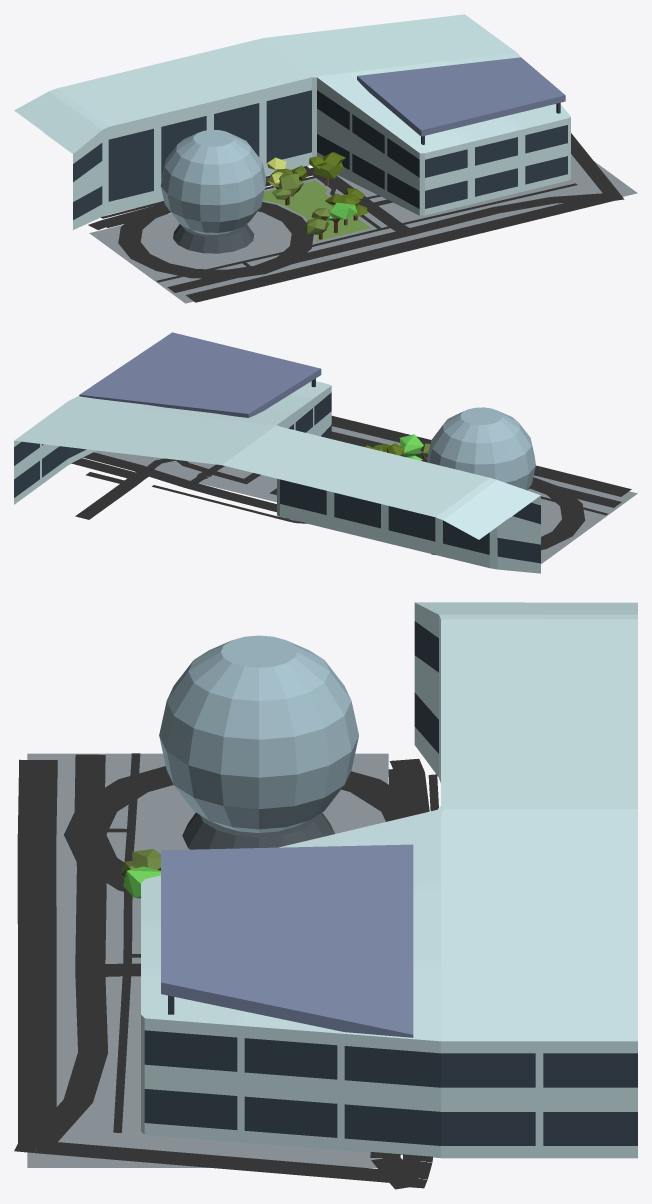
File: PY_Env5.fbx
The picture shows the model from 3 angles, top to bottom: view 1: azimuth 30°, elevation 25°; view 2: azimuth 150°, elevation 25°; view 3: azimuth 270°, elevation 25°; orthographic projection. The views are drawn at different scales.
Parts seen in each view (by area): view 1: PY_Env5; view 2: PY_Env5; view 3: PY_Env5.
Boxes of the visible parts, bbox=[...] form: PY_Env5: bbox=[14, 14, 637, 303]; PY_Env5: bbox=[14, 332, 637, 573]; PY_Env5: bbox=[14, 602, 637, 1189].
Bounding box in the file's own units: 8600 × 1683 × 5092.
